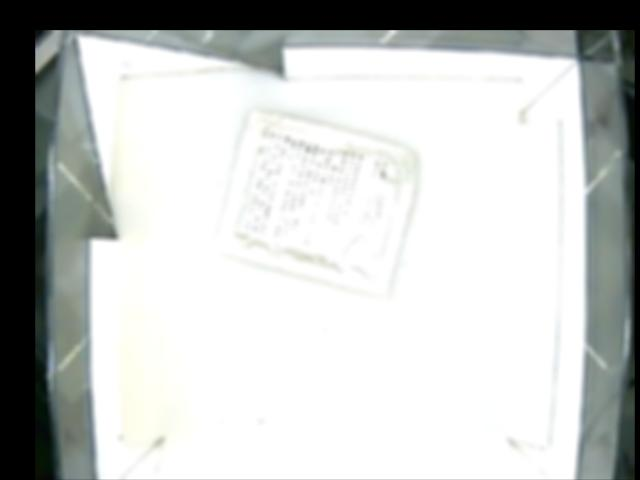Medicine: (211, 111, 416, 294)
